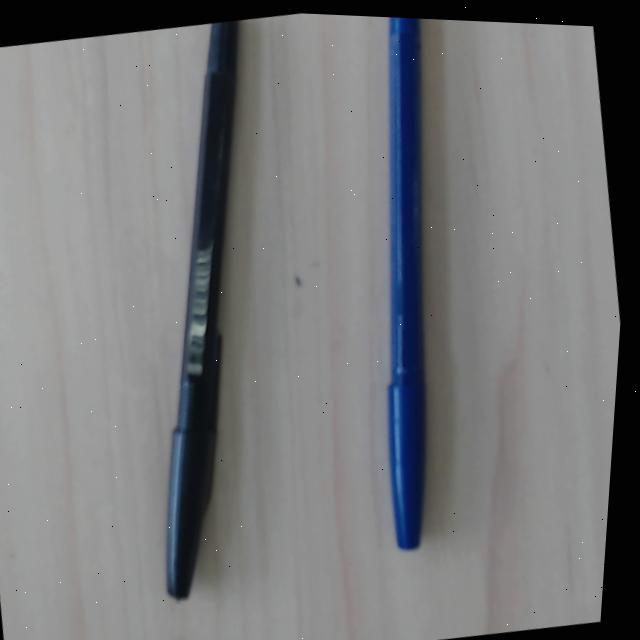Pulpen-Biru: (383, 17, 427, 549)
Pulpen-Hitam: (163, 17, 241, 601)
